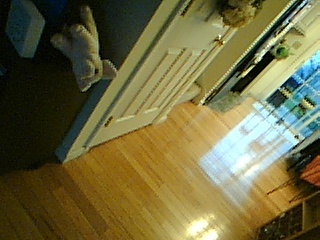piggy: (48, 4, 119, 94)
